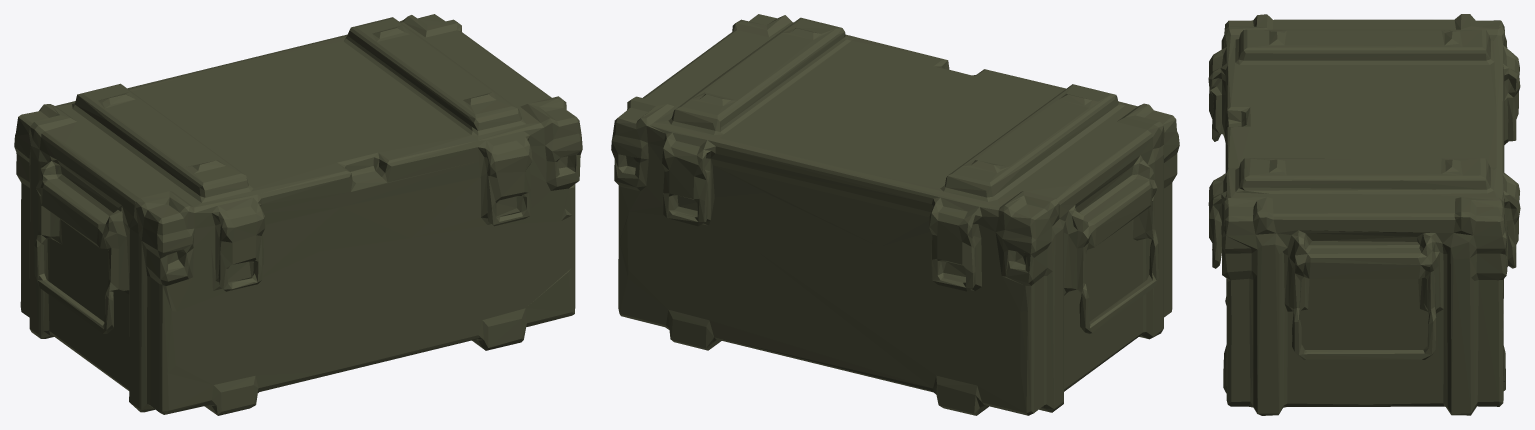
The model's file is crate_game.glb.
3 renders of one model, left to right at view 1: azimuth 30°, elevation 25°; view 2: azimuth 150°, elevation 25°; view 3: azimuth 270°, elevation 25°, orthographic. The views are drawn at different scales.
Parts seen in each view (by area): view 1: Mesh_0; view 2: Mesh_0; view 3: Mesh_0.
Part boxes in pixels (<box>): Mesh_0: <box>14,14,582,415</box>; Mesh_0: <box>611,14,1179,415</box>; Mesh_0: <box>1208,14,1520,415</box>.
Size of the model in its own units: 0.75 by 0.363 by 0.4592.
